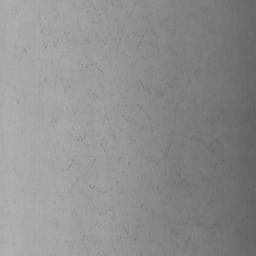Silk spot: (76, 134, 88, 142)
